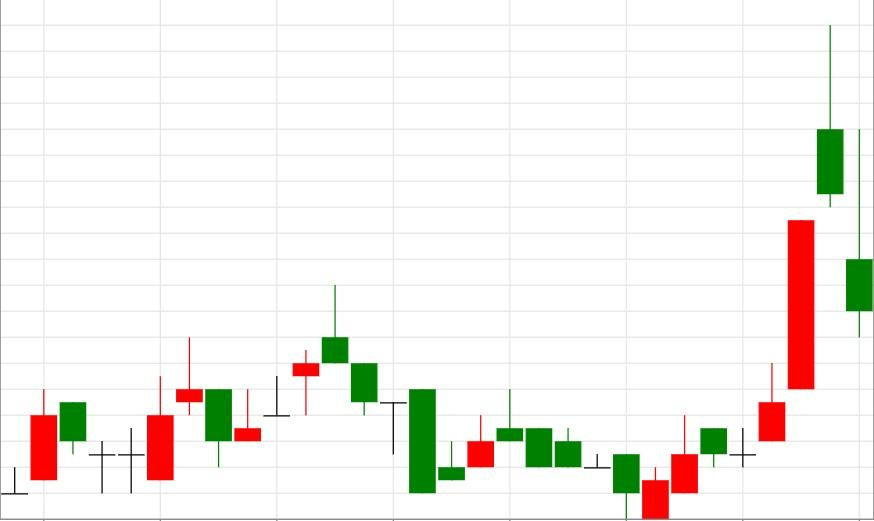shooting_star_fall: (204, 286, 349, 469)
